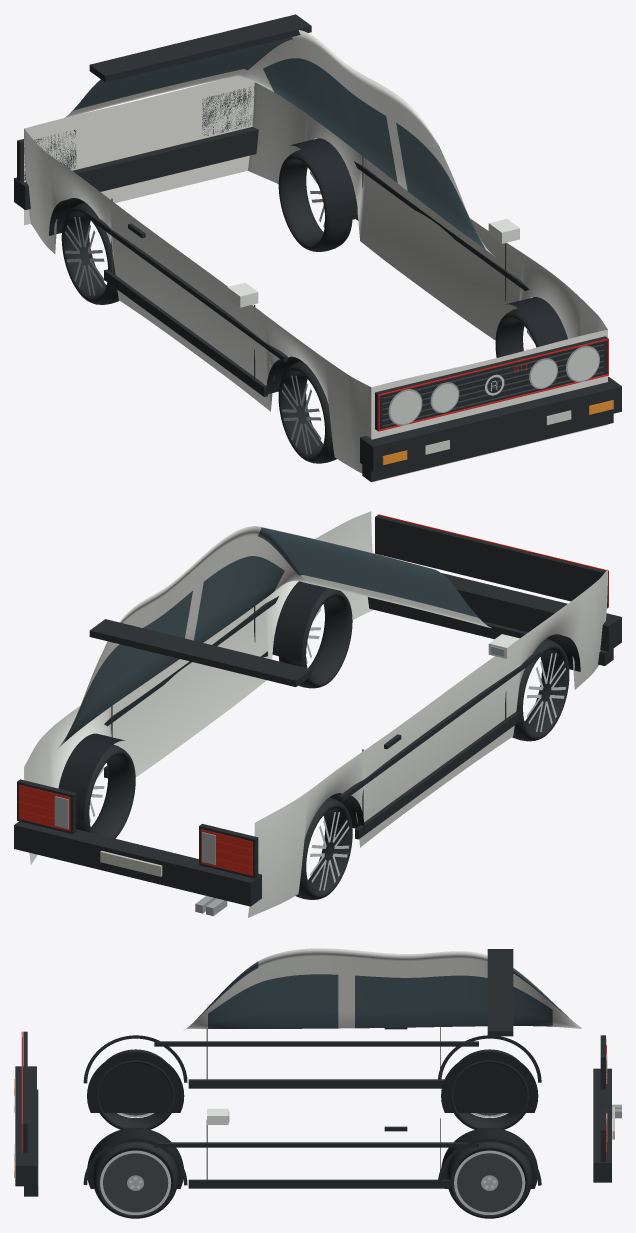
3 views of the same model, one above another, from view 1: azimuth 30°, elevation 25°; view 2: azimuth 150°, elevation 25°; view 3: azimuth 270°, elevation 25° (orthographic). The views are drawn at different scales.
Visible parts, largest first — view 1: body, wheel_rr, wheel_fl, wheel_rl, wheel_fr; view 2: body, wheel_rl, wheel_fl, wheel_fr, wheel_rr; view 3: body, wheel_fr, wheel_rr, wheel_rl, wheel_fl.
Part boxes in pixels (bbox=[...]): body: bbox=[14, 14, 621, 482]; wheel_rr: bbox=[278, 149, 352, 251]; wheel_fl: bbox=[278, 361, 336, 463]; wheel_rl: bbox=[61, 202, 119, 304]; wheel_fr: bbox=[495, 308, 539, 357]; body: bbox=[14, 511, 621, 917]; wheel_rl: bbox=[295, 797, 352, 899]; wheel_fl: bbox=[512, 638, 569, 741]; wheel_fr: bbox=[278, 588, 352, 688]; wheel_rr: bbox=[76, 744, 135, 838]; body: bbox=[14, 948, 621, 1196]; wheel_fr: bbox=[92, 1142, 178, 1218]; wheel_rr: bbox=[446, 1142, 532, 1218]; wheel_rl: bbox=[450, 1049, 528, 1129]; wheel_fl: bbox=[96, 1049, 174, 1129].
Bounding box in the file's own units: 1.84 × 1.47 × 4.25.
